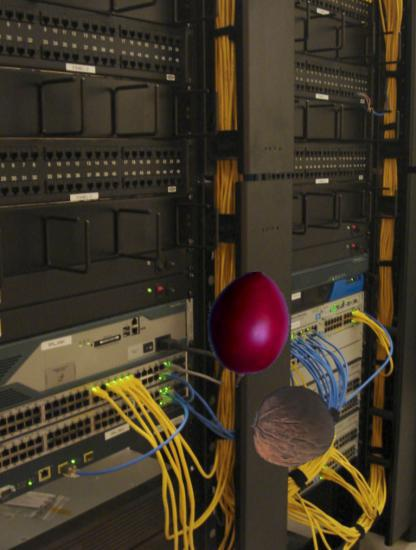Tamarillo: (192, 273, 306, 387)
Walnut: (251, 384, 336, 469)
